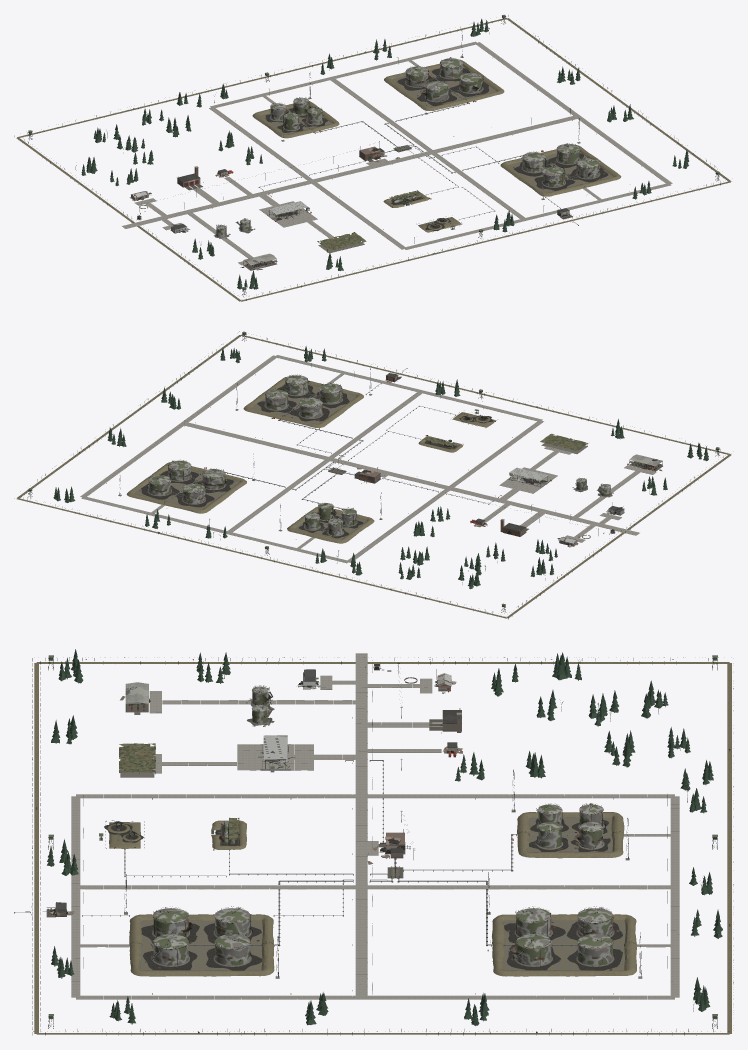
File: site_fuel_w.glb
3 views of the same model, one above another, from view 1: azimuth 30°, elevation 25°; view 2: azimuth 150°, elevation 25°; view 3: azimuth 270°, elevation 25° (orthographic). The views are drawn at different scales.
Visible parts, largest first — view 1: deco|F_A, deco|tile_conc, deco_trees|F_A; view 2: deco|F_A, deco|tile_conc, deco_trees|F_A; view 3: deco|F_A, deco|tile_conc, deco_trees|F_A, b_t6|F_A, b_t2|F_A, b_t4|F_A, b_t8|F_A, b_t3|F_A, b_t1|F_A, b_t7|F_A, b_t5|F_A, b_rgs|F_A (+6 smaller).
Part boxes in pixels (bbox=[...]): deco|F_A: bbox=[14, 14, 731, 301]; deco|tile_conc: bbox=[122, 41, 672, 265]; deco_trees|F_A: bbox=[75, 18, 688, 289]; deco|F_A: bbox=[14, 331, 731, 619]; deco|tile_conc: bbox=[80, 355, 656, 563]; deco_trees|F_A: bbox=[53, 346, 708, 589]; deco|F_A: bbox=[14, 655, 733, 1035]; deco|tile_conc: bbox=[68, 653, 679, 999]; deco_trees|F_A: bbox=[47, 649, 722, 1025]; b_t6|F_A: bbox=[151, 932, 189, 966]; b_t2|F_A: bbox=[513, 932, 552, 966]; b_t4|F_A: bbox=[576, 932, 614, 966]; b_t8|F_A: bbox=[213, 932, 251, 966]; b_t3|F_A: bbox=[576, 906, 614, 937]; b_t1|F_A: bbox=[514, 906, 552, 937]; b_t7|F_A: bbox=[213, 906, 252, 937]; b_t5|F_A: bbox=[152, 906, 189, 937]; b_rgs|F_A: bbox=[211, 817, 246, 850].
Size of the model in its own units: 588 by 34.79 by 468.
70 materials, 52 textured.
